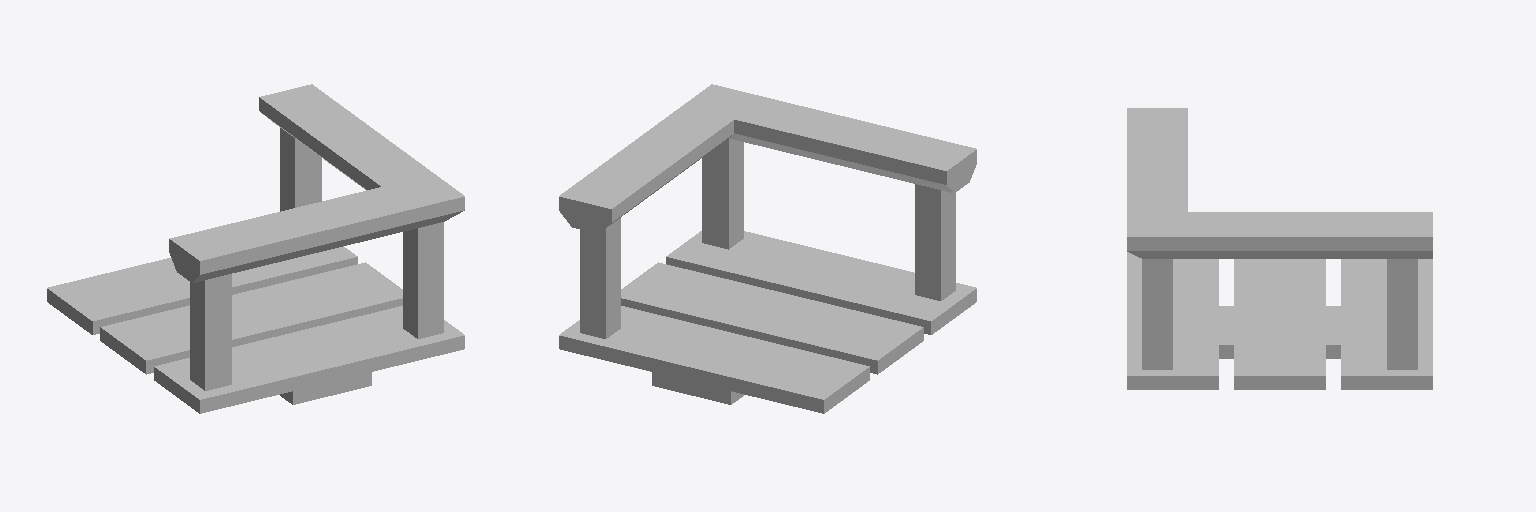
File: scaffold_small_low_cornerLeft.obj
The picture shows the model from 3 angles: view 1: azimuth 30°, elevation 25°; view 2: azimuth 150°, elevation 25°; view 3: azimuth 270°, elevation 25°; orthographic projection.
Parts seen in each view (by area): view 1: scaffold_small_low_cornerLeft_Cube.013; view 2: scaffold_small_low_cornerLeft_Cube.013; view 3: scaffold_small_low_cornerLeft_Cube.013.
Boxes of the visible parts, <box> form: scaffold_small_low_cornerLeft_Cube.013: <box>47,84,464,413</box>; scaffold_small_low_cornerLeft_Cube.013: <box>559,84,976,413</box>; scaffold_small_low_cornerLeft_Cube.013: <box>1127,108,1432,389</box>.
Size of the model in its own units: 2 by 1.2 by 2.